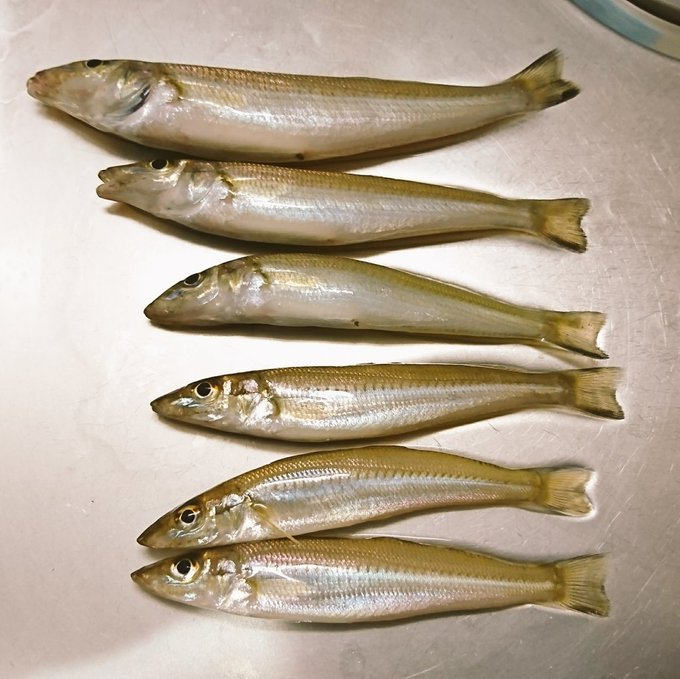kiss: (24, 32, 579, 170), (135, 235, 617, 372), (87, 145, 599, 258), (135, 428, 598, 549), (123, 525, 615, 629), (142, 347, 636, 440)
